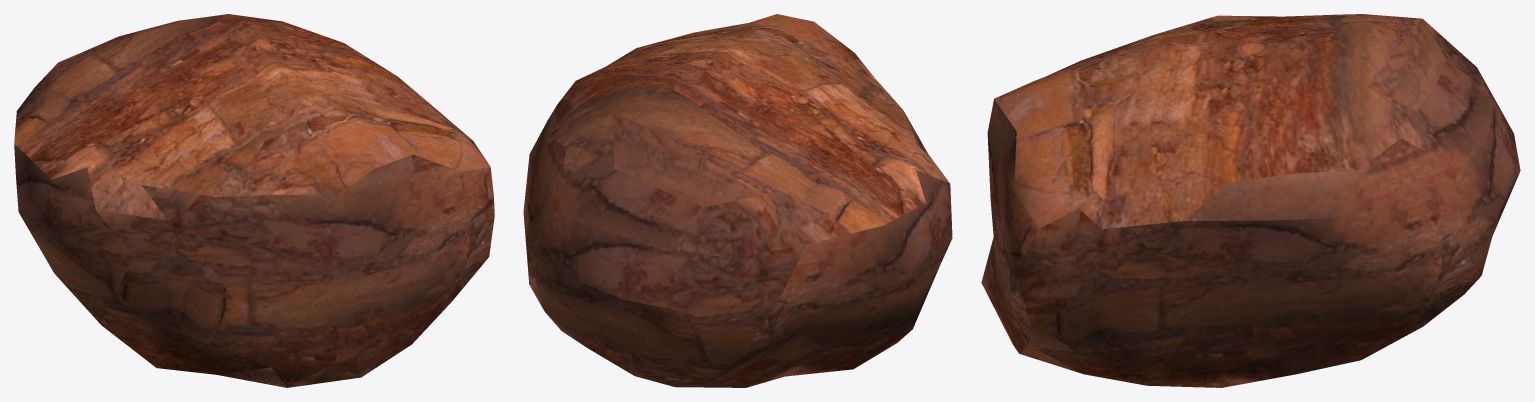
Rendered from rock_01_red.glb.
The picture shows the model from 3 angles, left to right: view 1: azimuth 30°, elevation 25°; view 2: azimuth 150°, elevation 25°; view 3: azimuth 270°, elevation 25°; orthographic projection. The views are drawn at different scales.
Visible parts, largest first — view 1: rock_01_red; view 2: rock_01_red; view 3: rock_01_red.
Part boxes in pixels (left/top/right/bottom): rock_01_red: left=14, top=14, right=494, bottom=387; rock_01_red: left=523, top=14, right=952, bottom=387; rock_01_red: left=981, top=14, right=1520, bottom=387.
Size of the model in its own units: 0.4415 by 0.2992 by 0.478.
1 material, 1 textured.
